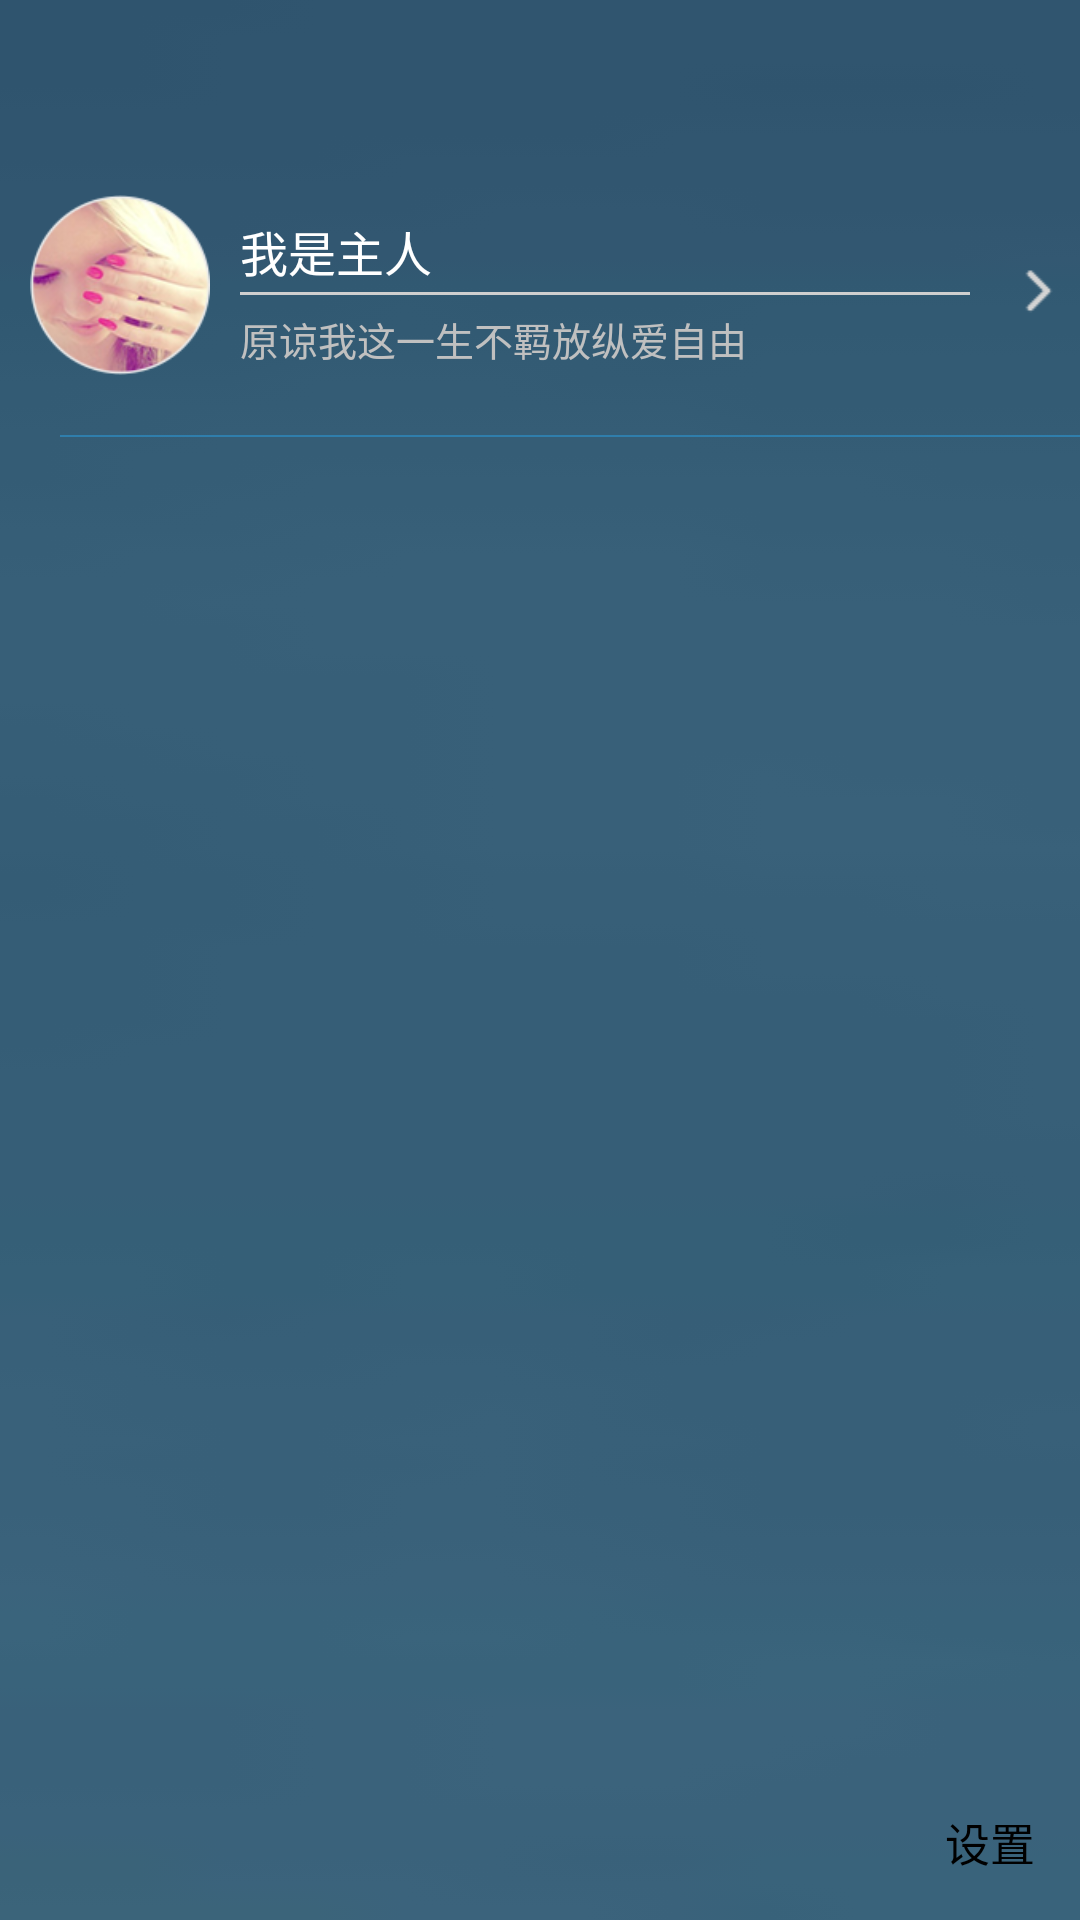

Icons on this 1080 x 1920 Android screen, each with its box as bbox=[x1, y1, x2, y2]:
option more: bbox=[1026, 270, 1051, 311]
